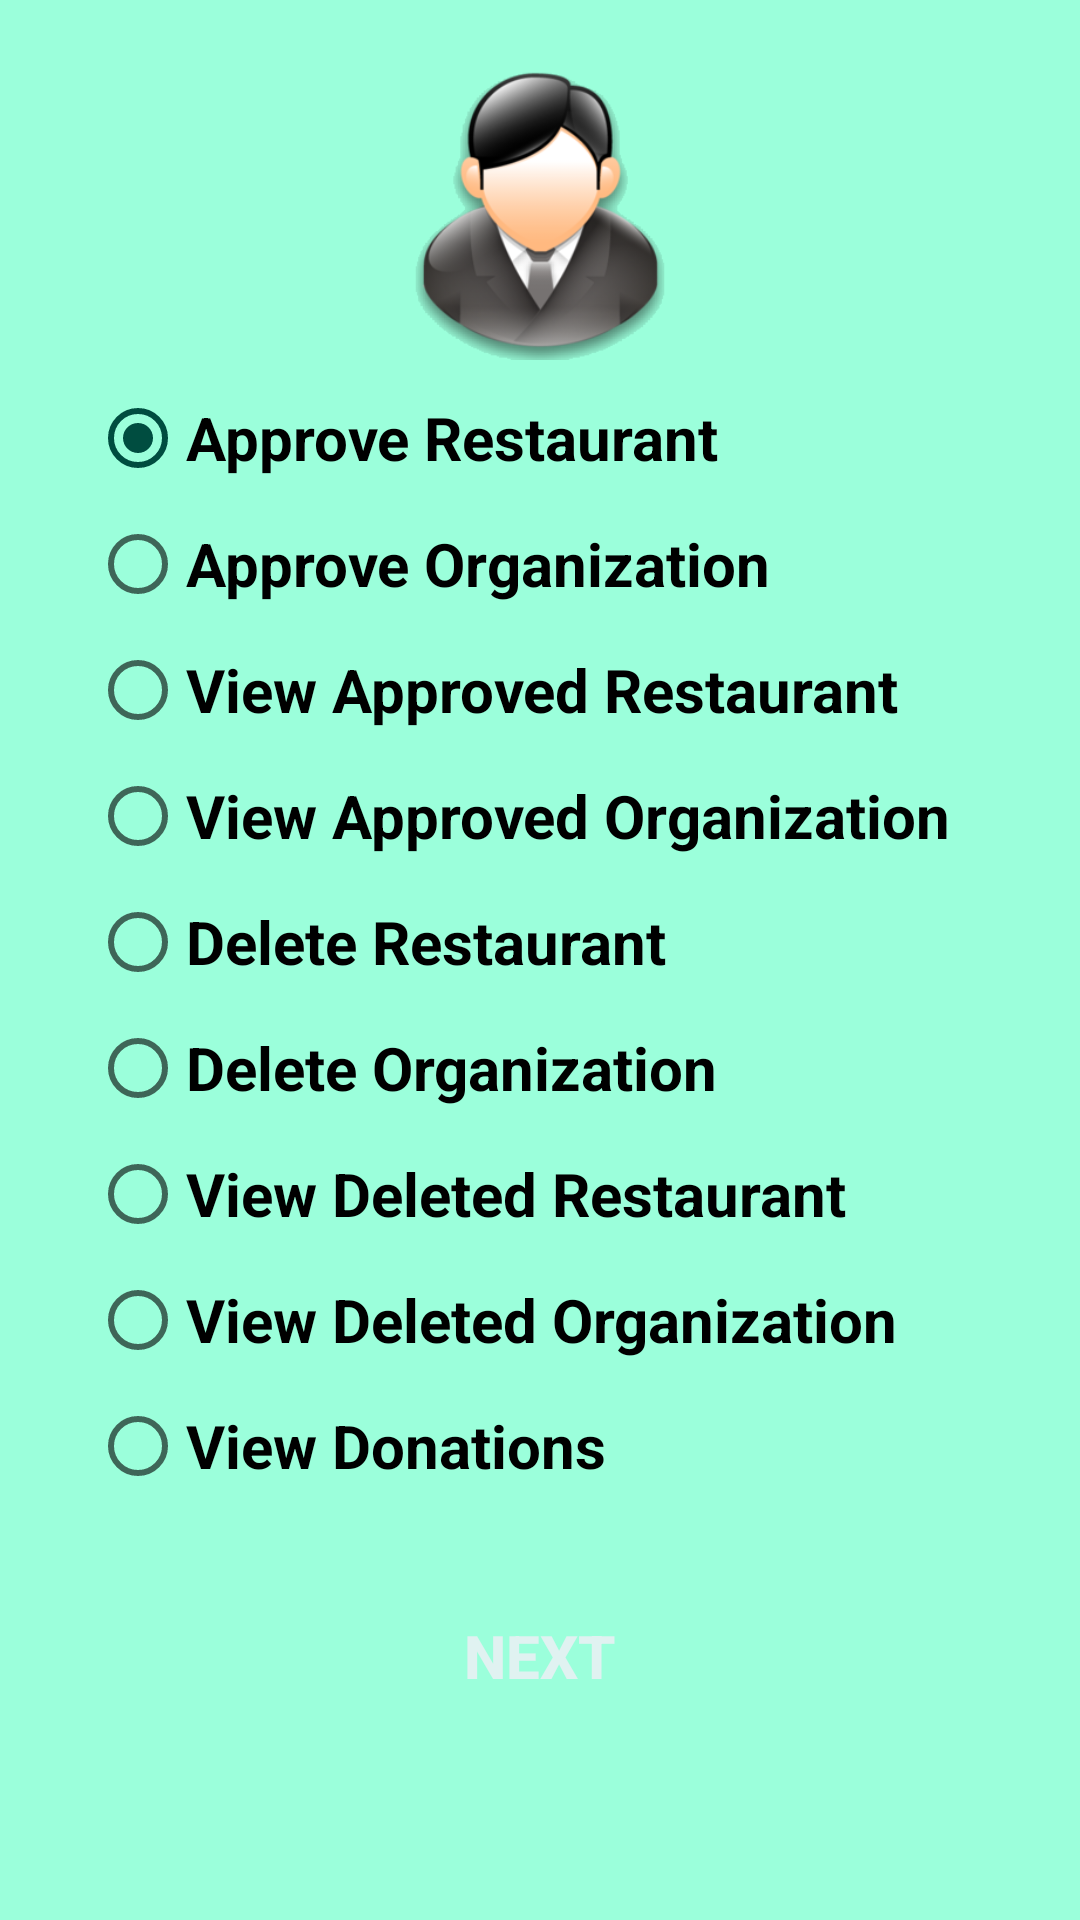

Icons on this 1080×1920 Android screen, each with its box as (x1, y1, x2, y2):
admin: (417, 73, 664, 360)
